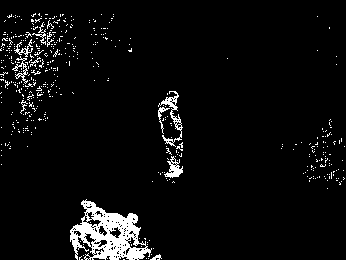person: (158, 90, 185, 179)
